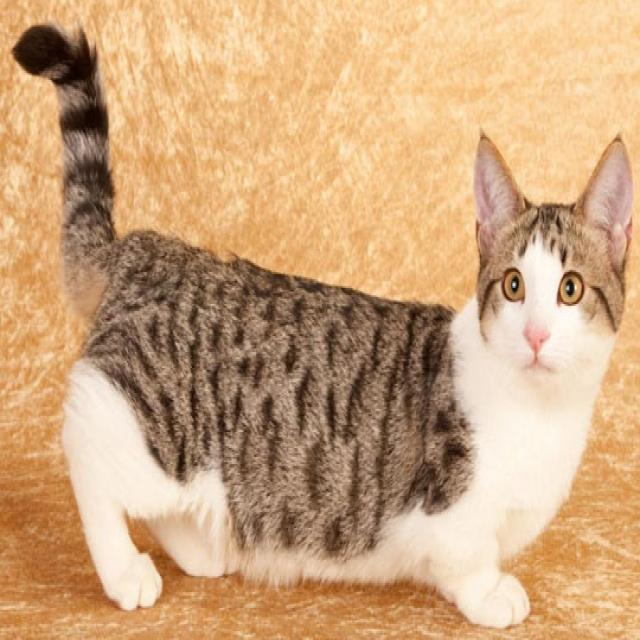Munchkin: (8, 19, 639, 637)
